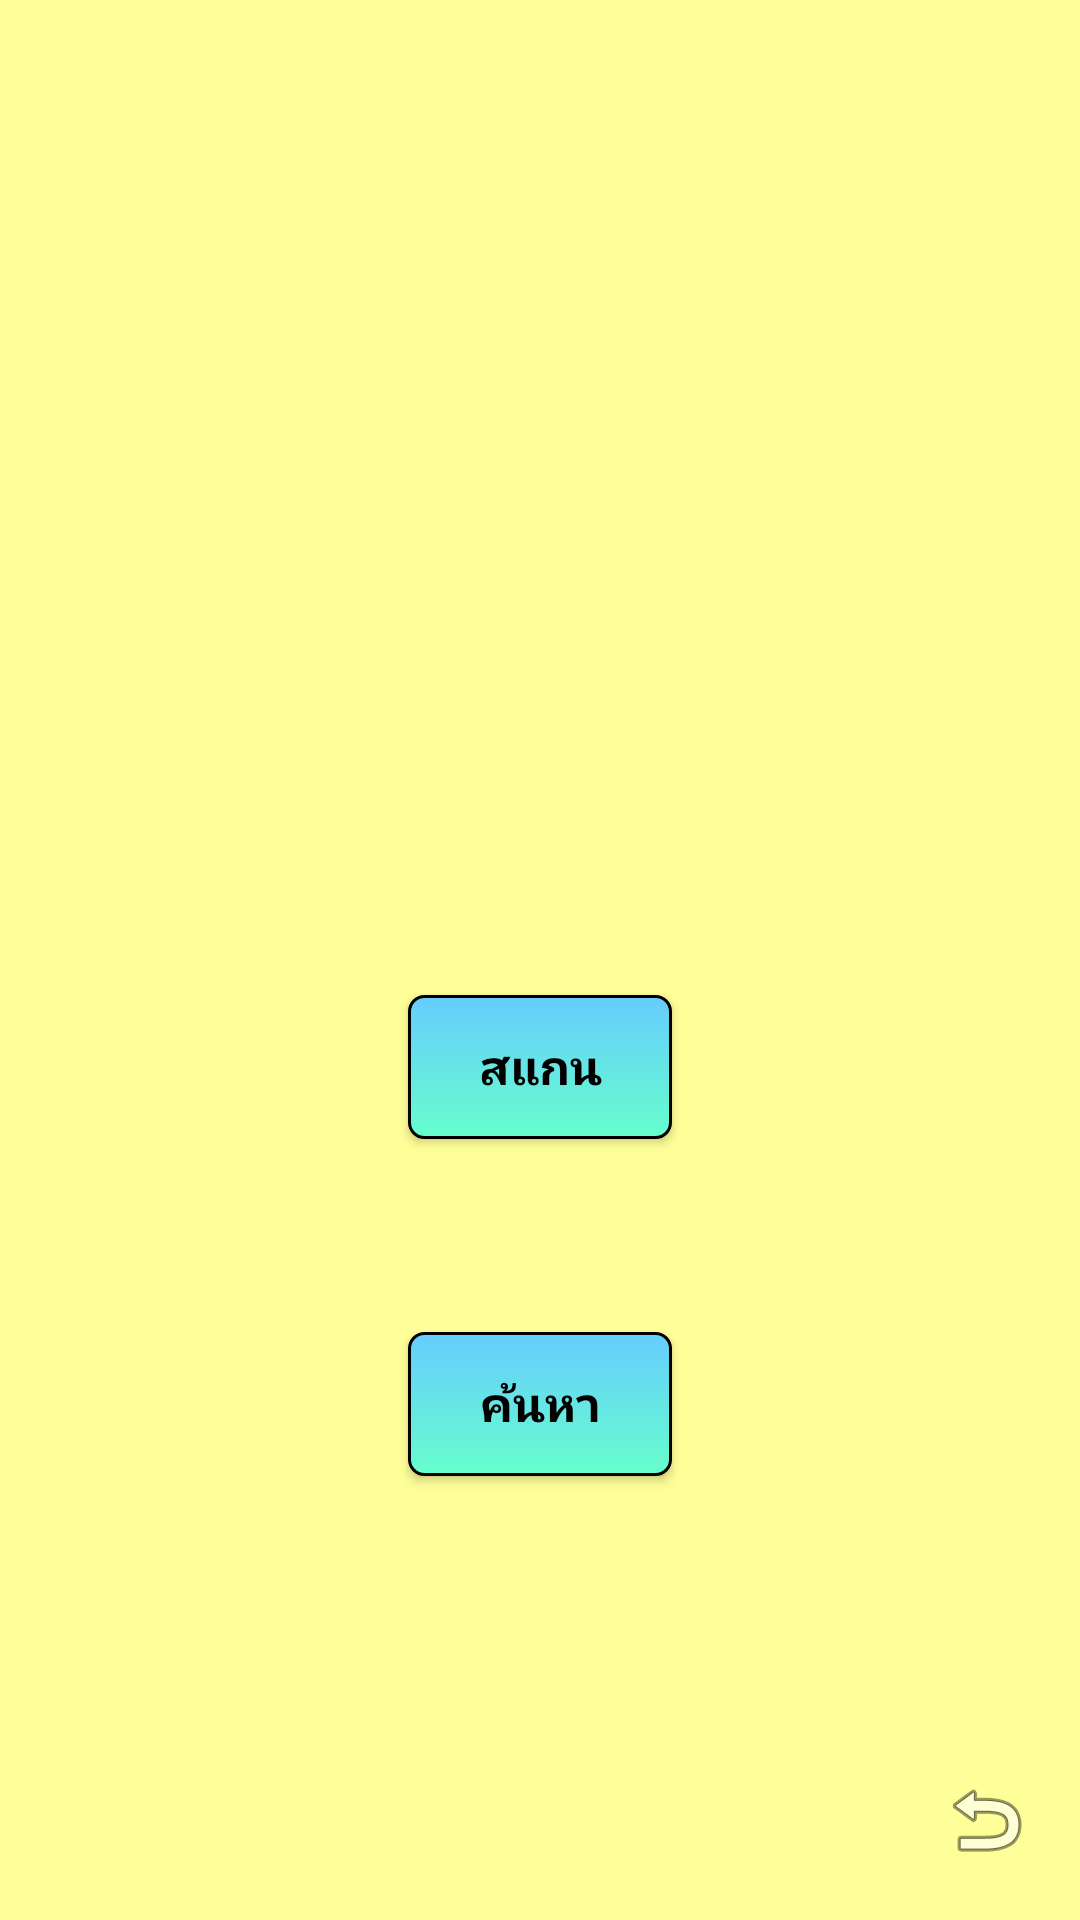

Screen size 1080*1920. Icon name, then its box in pixels as BBox(x1, y1, x2, y2):
revert: BBox(953, 1789, 1022, 1852)
